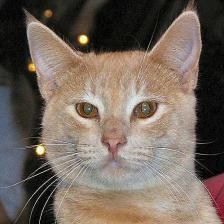cat: (20, 8, 206, 190)
